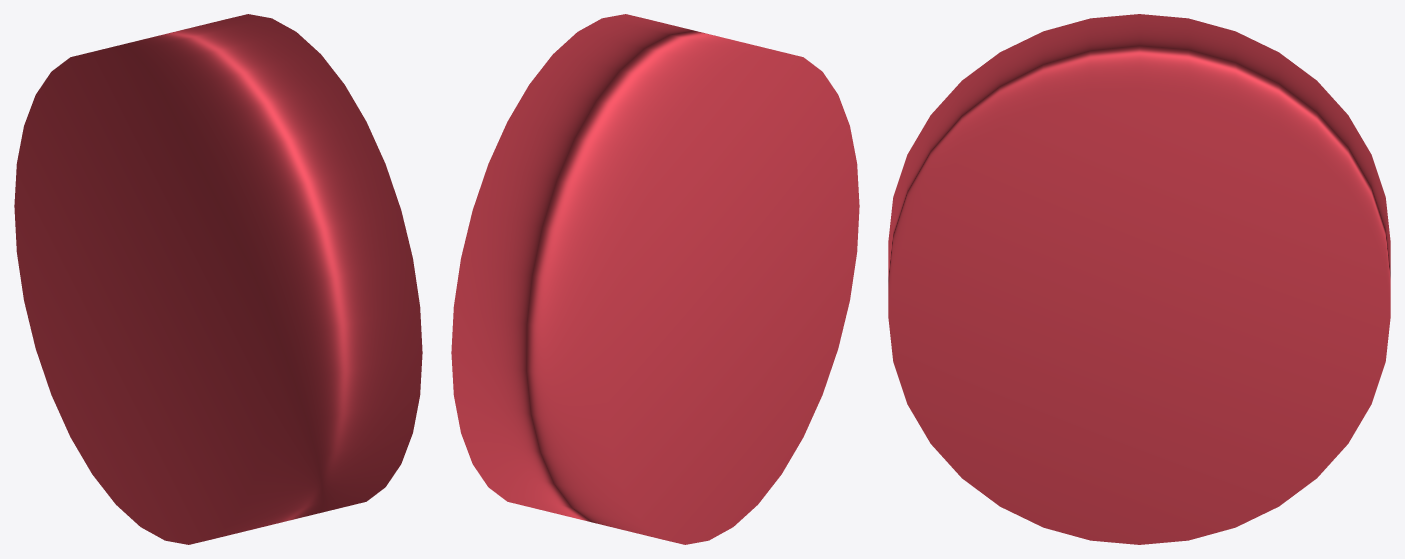
Rendered from GT3_AirJack_Pneumatic_Wand_Receptacle.glb.
The picture shows the model from 3 angles, left to right: view 1: azimuth 30°, elevation 25°; view 2: azimuth 150°, elevation 25°; view 3: azimuth 270°, elevation 25°; orthographic projection.
Parts seen in each view (by area): view 1: GT3_AirJack_Pneumatic_Wand_Receptacle; view 2: GT3_AirJack_Pneumatic_Wand_Receptacle; view 3: GT3_AirJack_Pneumatic_Wand_Receptacle.
Boxes of the visible parts, box(x1,y1,x2,y2) form: GT3_AirJack_Pneumatic_Wand_Receptacle: box(14, 14, 422, 544); GT3_AirJack_Pneumatic_Wand_Receptacle: box(451, 14, 859, 544); GT3_AirJack_Pneumatic_Wand_Receptacle: box(888, 14, 1390, 544).
Size of the model in its own units: 0.02 by 0.056 by 0.056.
